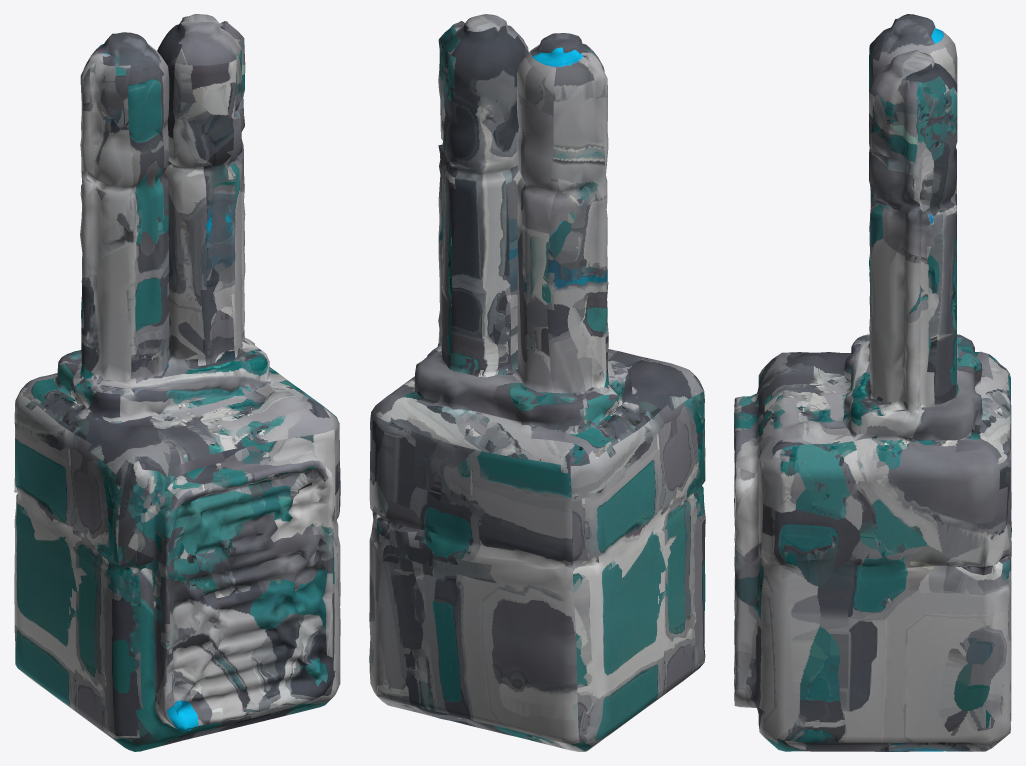
The model's file is SM_Oxygen_tex1.fbx.
The picture shows the model from 3 angles, left to right: view 1: azimuth 30°, elevation 25°; view 2: azimuth 150°, elevation 25°; view 3: azimuth 270°, elevation 25°; orthographic projection. The views are drawn at different scales.
Parts seen in each view (by area): view 1: SMT_Oxygen; view 2: SMT_Oxygen; view 3: SMT_Oxygen.
Part boxes in pixels (x1,y1,x2,y2): SMT_Oxygen: [14, 14, 340, 751]; SMT_Oxygen: [369, 14, 705, 751]; SMT_Oxygen: [734, 14, 1011, 751].
Bounding box in the file's own units: 0.339 × 0.9399 × 0.3558.
